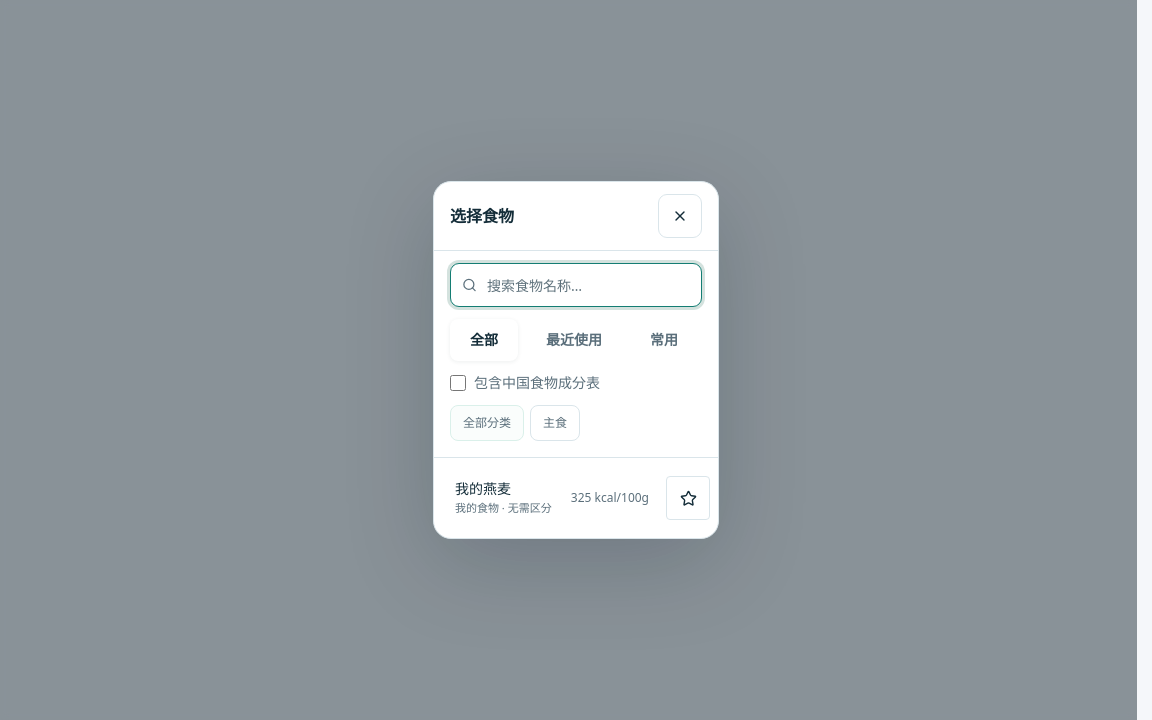
Test: does not expose one account's food shortcuts to another
Click the button "常用".
click(664, 340)  # box x1=630 y1=319 x2=698 y2=361
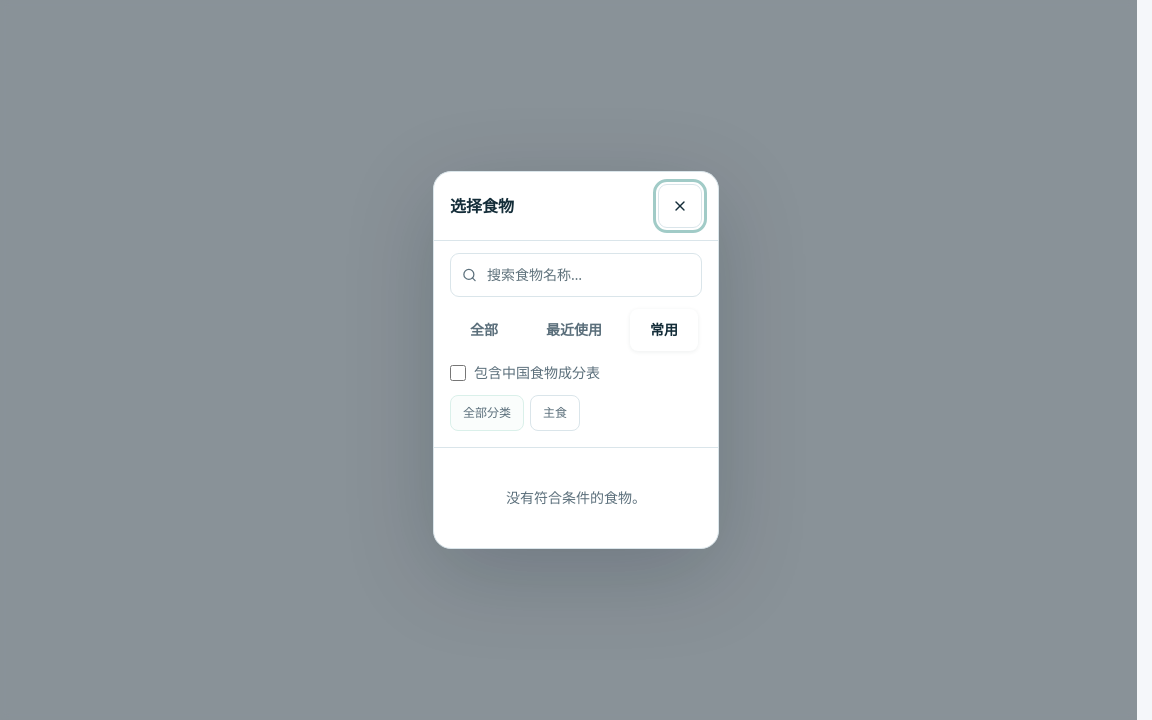
Expected: the list item "我的燕麦 我的食物 · 无需区分 325 kcal/100g" is gone
